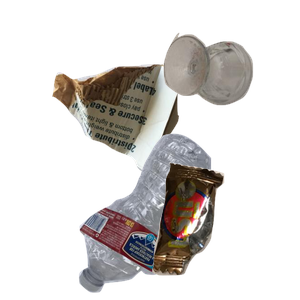cardboard: (50, 62, 228, 226)
glass: (161, 30, 300, 128)
plastic: (76, 131, 280, 300)
trash: (150, 160, 300, 300)
